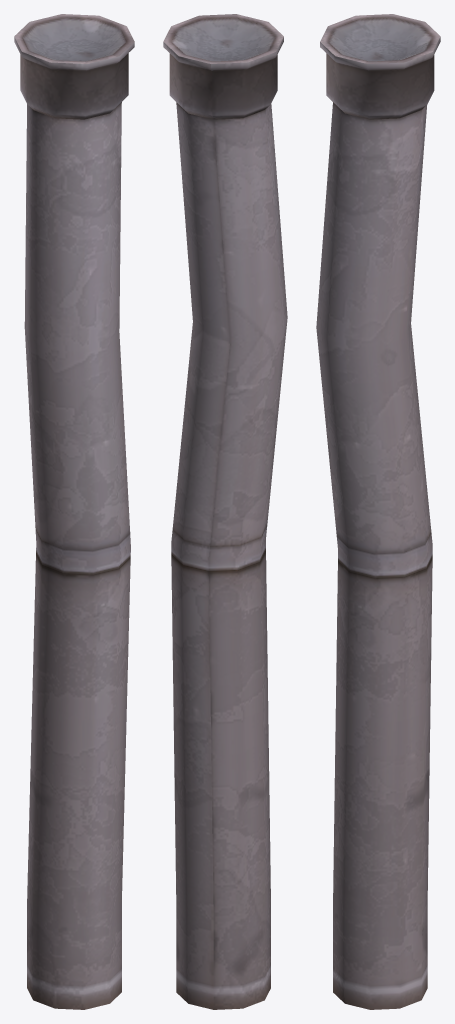
File: PropRoofDrainage01_5.FBX
3 views of the same model, side by side, from view 1: azimuth 30°, elevation 25°; view 2: azimuth 150°, elevation 25°; view 3: azimuth 330°, elevation 25° (orthographic).
Parts seen in each view (by area): view 1: PropRoofDrainage01_5; view 2: PropRoofDrainage01_5; view 3: PropRoofDrainage01_5.
Part boxes in pixels (x1,y1,x2,y2): PropRoofDrainage01_5: (14,14,134,1009); PropRoofDrainage01_5: (163,14,287,1009); PropRoofDrainage01_5: (316,14,440,1009).
Size of what is drawn, in the model's own units: 0.2037 by 1.76 by 0.197.
